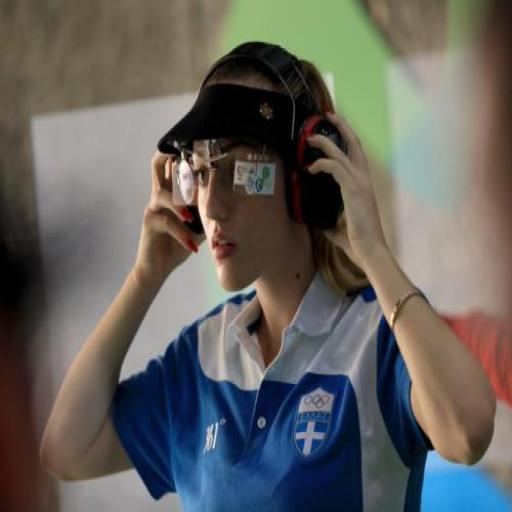shooting: (37, 38, 499, 510)
